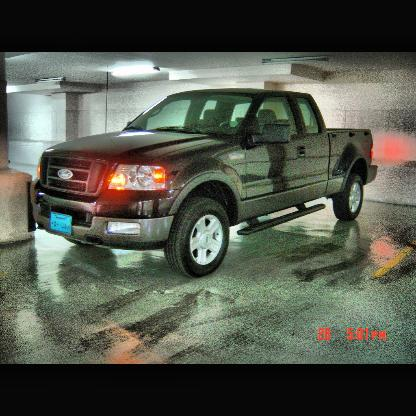Ford F-150 Regular Cab 2007: (33, 91, 379, 279)
